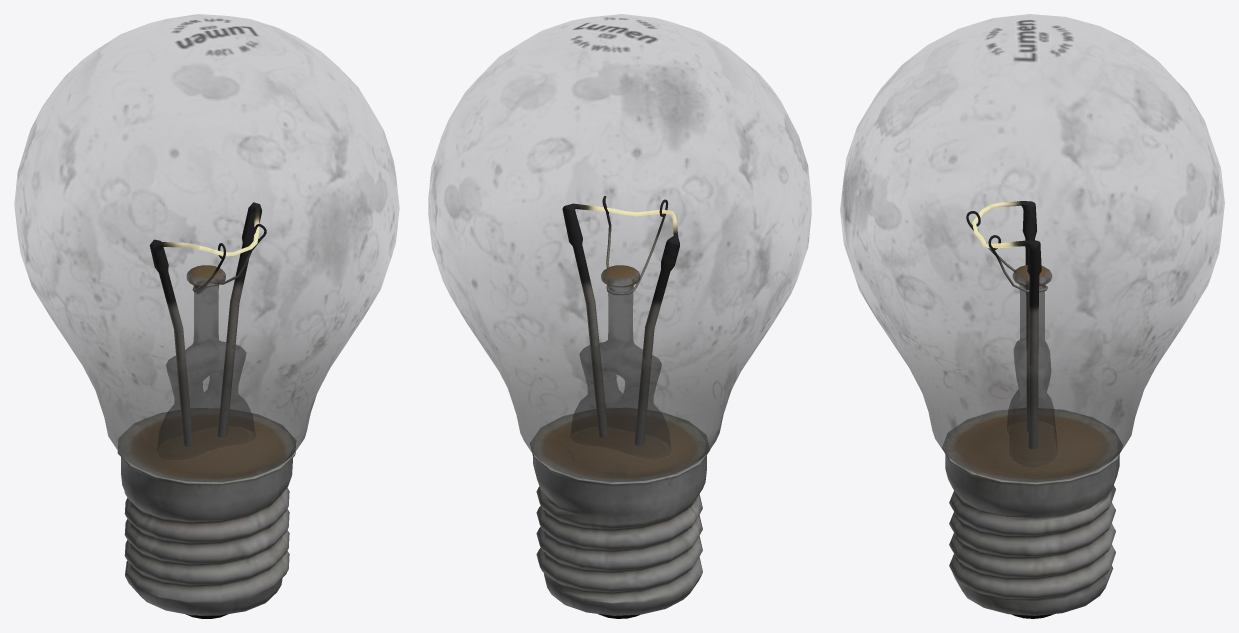
The model's file is Bulb.glb.
3 views of the same model, side by side, from view 1: azimuth 30°, elevation 25°; view 2: azimuth 150°, elevation 25°; view 3: azimuth 270°, elevation 25° (orthographic).
Parts seen in each view (by area): view 1: lightbulb_01; view 2: lightbulb_01; view 3: lightbulb_01.
Part boxes in pixels (box(x1,y1,x2,y2)): lightbulb_01: box(15, 14, 398, 618); lightbulb_01: box(428, 14, 811, 618); lightbulb_01: box(840, 14, 1224, 618).
Size of the model in its own units: 0.6656 by 1.11 by 0.6656.
Materials: 2 (2 with a texture image).
